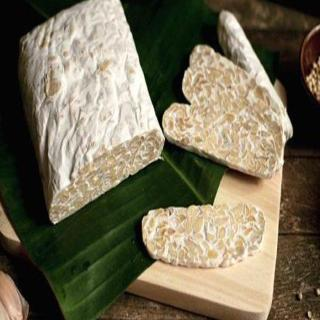Tempe: (2, 2, 293, 319), (1, 1, 172, 232), (142, 202, 267, 270), (217, 9, 289, 113), (301, 24, 320, 108), (1, 268, 30, 320), (306, 54, 320, 104)
